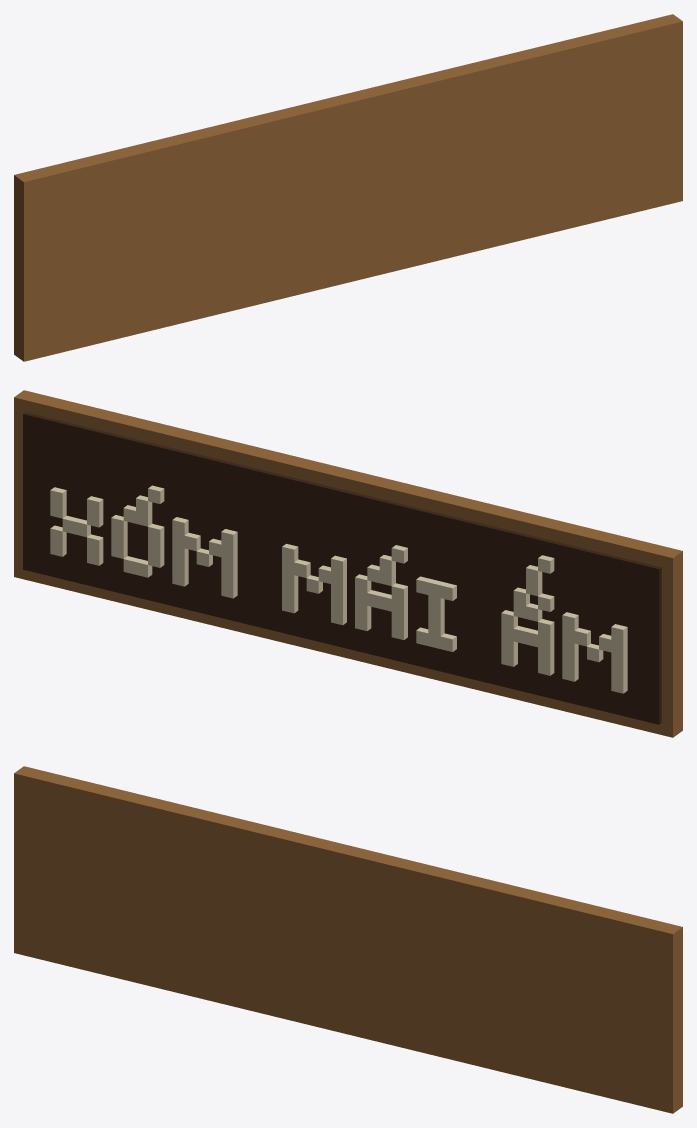
The model's file is th-sign-xom-mai-am.glb.
The picture shows the model from 3 angles, top to bottom: view 1: azimuth 30°, elevation 25°; view 2: azimuth 150°, elevation 25°; view 3: azimuth 330°, elevation 25°; orthographic projection.
Parts seen in each view (by area): view 1: box-prop; view 2: box-prop; view 3: box-prop.
Part boxes in pixels (bbox=[...]): box-prop: bbox=[14, 14, 682, 361]; box-prop: bbox=[14, 390, 682, 737]; box-prop: bbox=[14, 766, 682, 1113].
Bounding box in the file's own units: 4.6 × 1.2 × 0.2.
